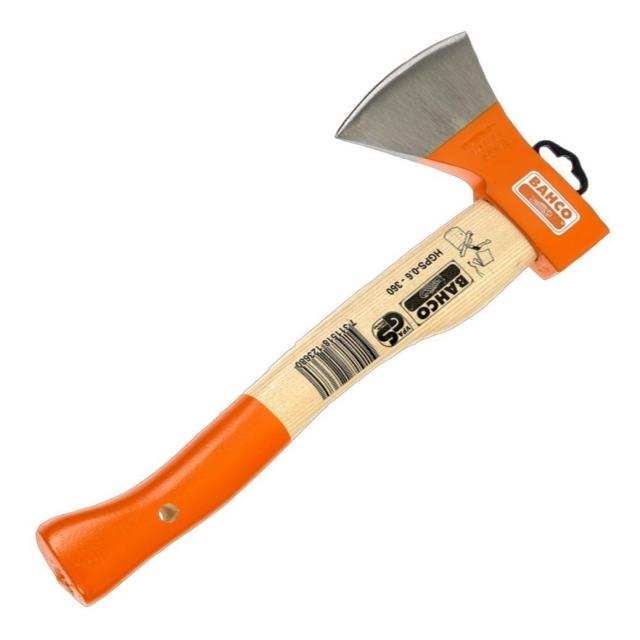Kapak: (39, 22, 615, 624)
